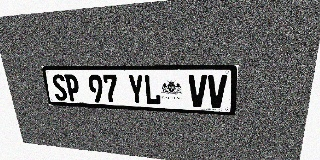7: (102, 74, 119, 103)
9: (87, 74, 105, 103)
L: (143, 75, 161, 105)
P: (64, 74, 81, 102)
S: (51, 74, 68, 101)
V: (207, 75, 227, 108), (189, 75, 207, 107)
Y: (127, 74, 145, 105)
